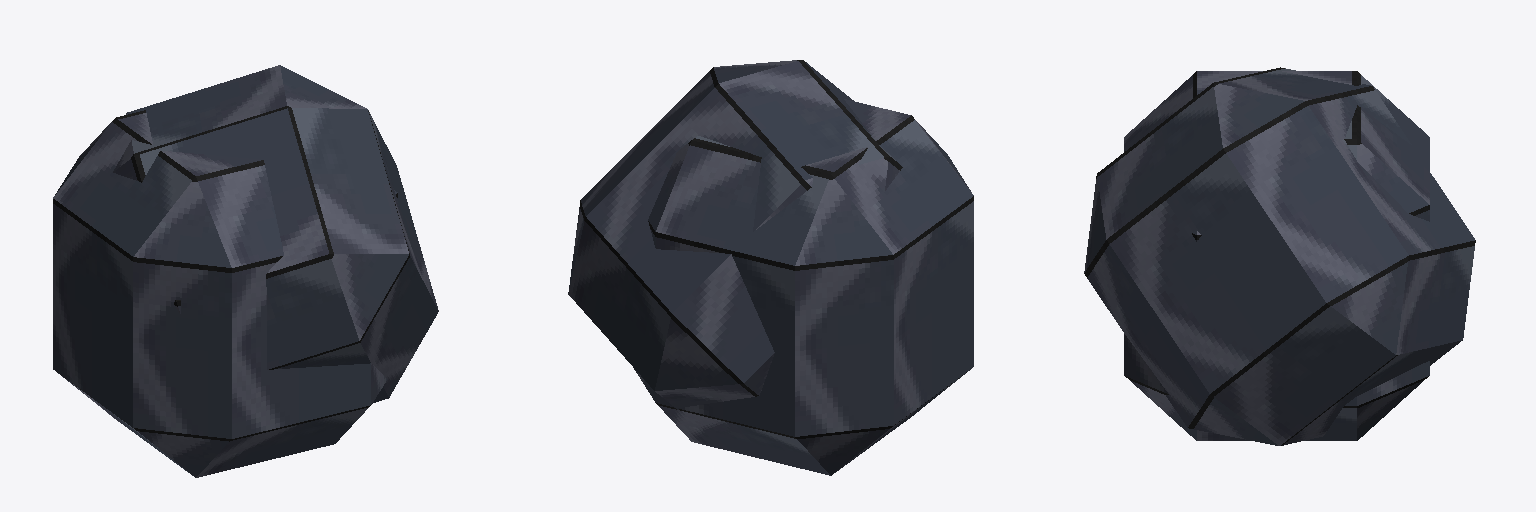
The picture shows the model from 3 angles: view 1: azimuth 30°, elevation 25°; view 2: azimuth 150°, elevation 25°; view 3: azimuth 270°, elevation 25°; orthographic projection.
Parts seen in each view (by area): view 1: beveled_cuboid; view 2: beveled_cuboid; view 3: beveled_cuboid.
Boxes of the visible parts, x1=… form: beveled_cuboid: x1=53, y1=65, x2=438, y2=477; beveled_cuboid: x1=568, y1=60, x2=973, y2=475; beveled_cuboid: x1=1084, y1=67, x2=1475, y2=445.
Size of the model in its own units: 4.27 by 4.3 by 4.41.
1 materials, 1 textured.